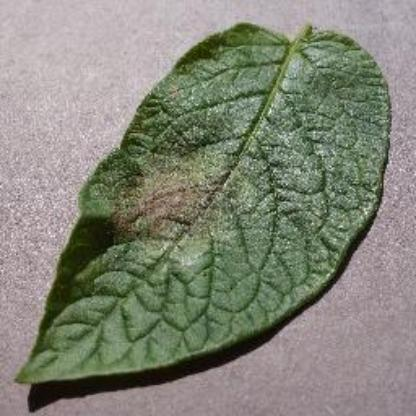Late-Blight: (23, 13, 397, 388)
